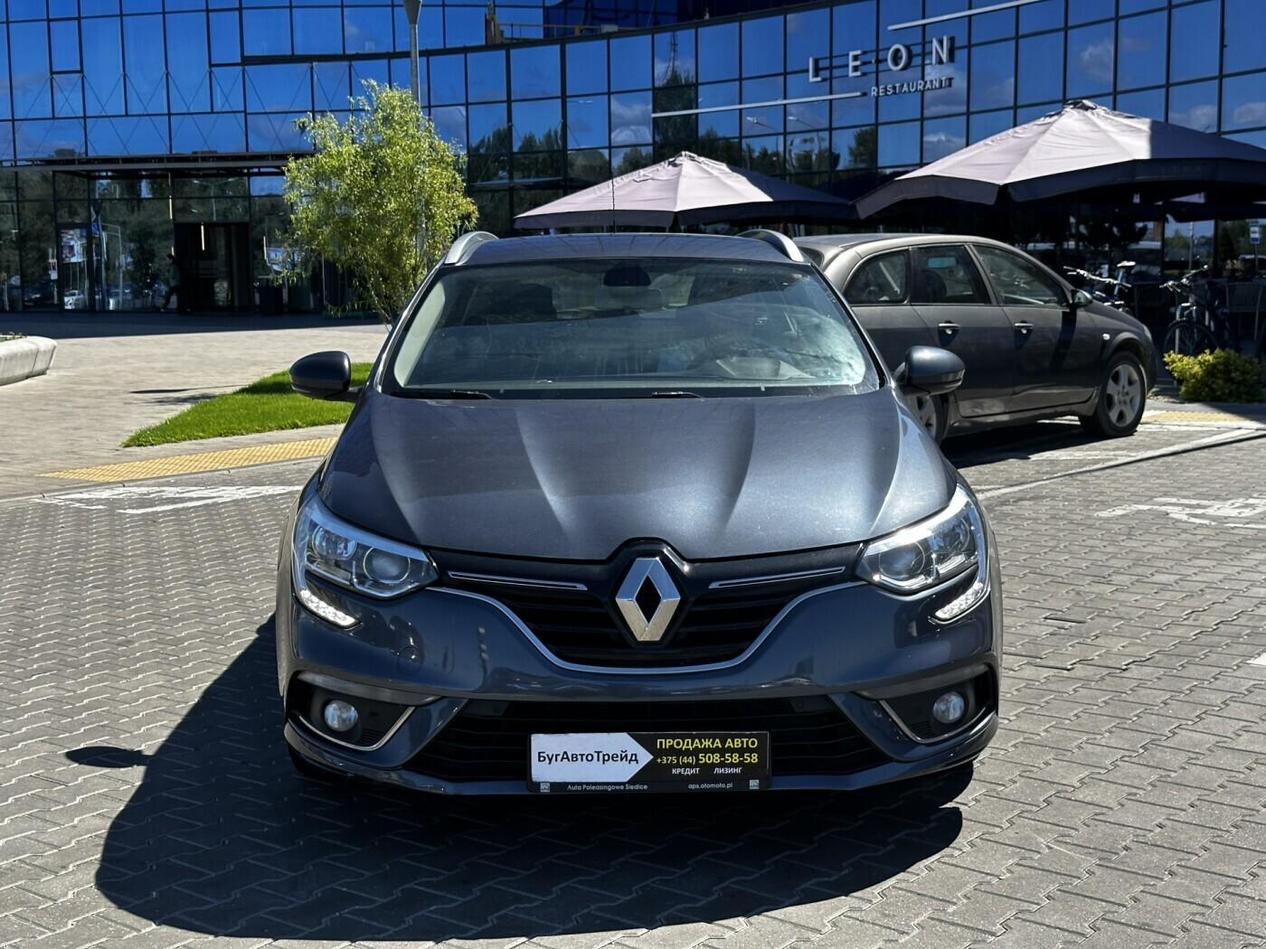Megane_2016-2020: (267, 219, 1006, 820)
